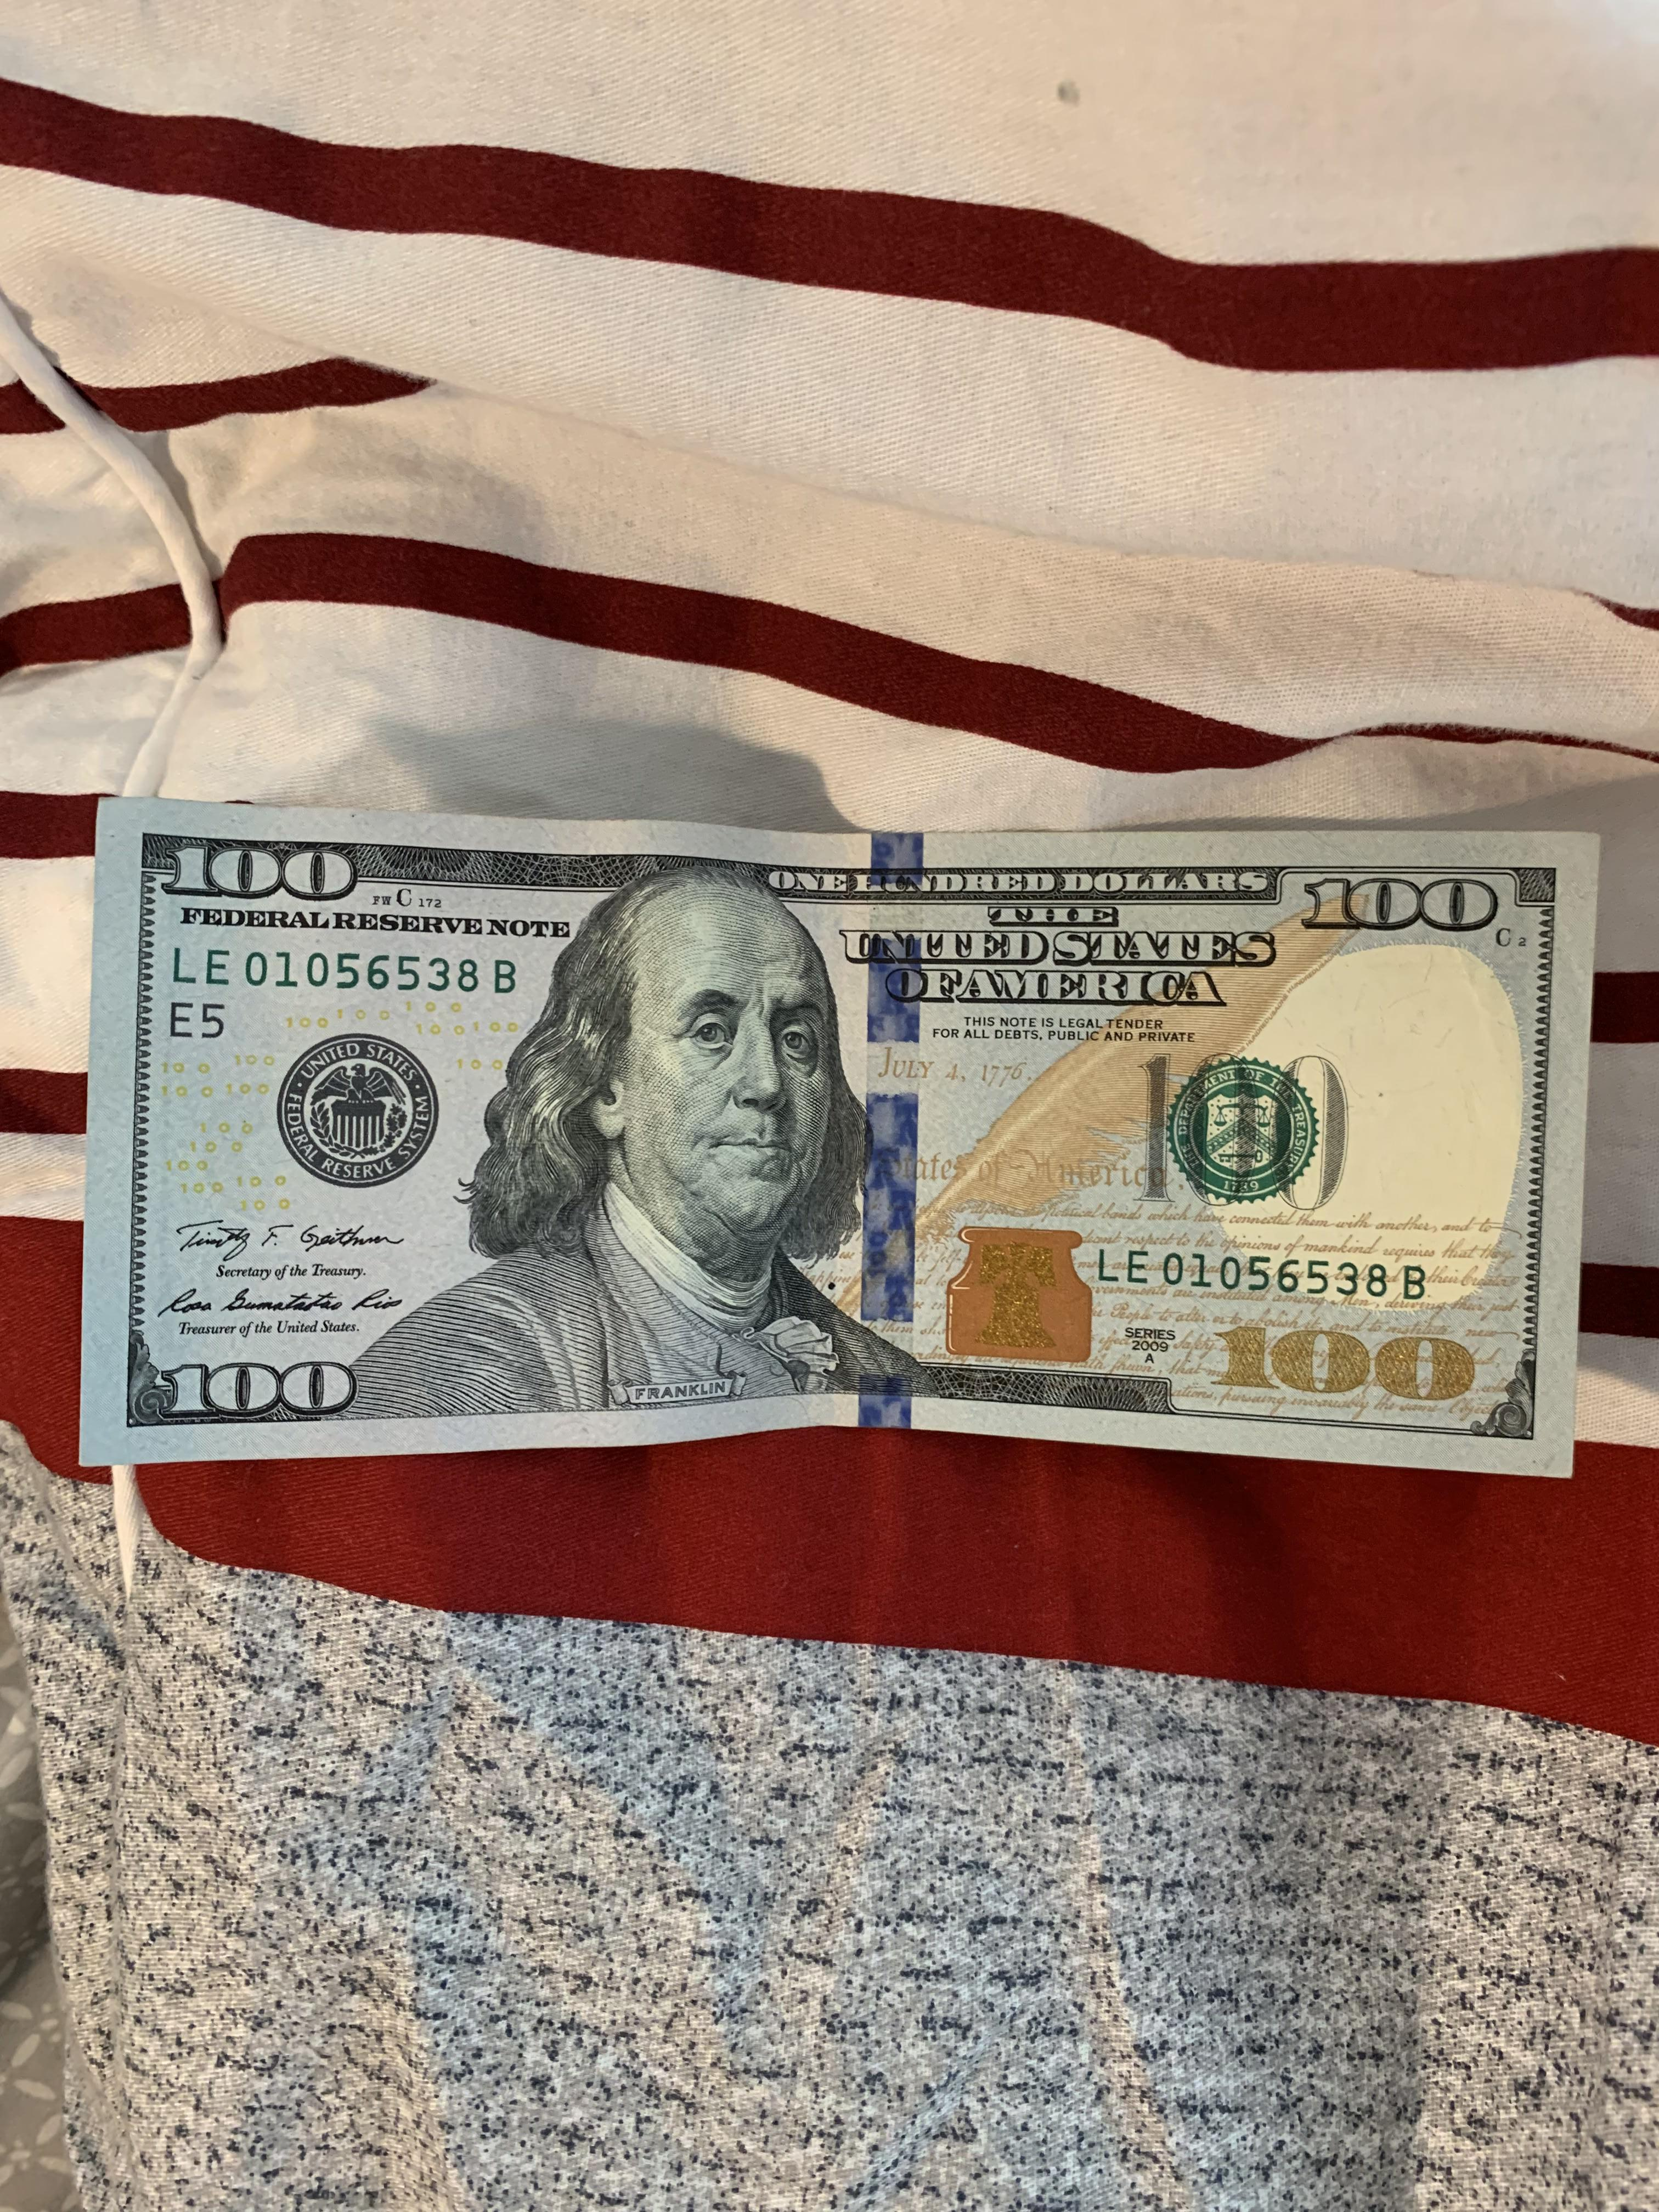HundredBill: (63, 775, 1614, 1508)
